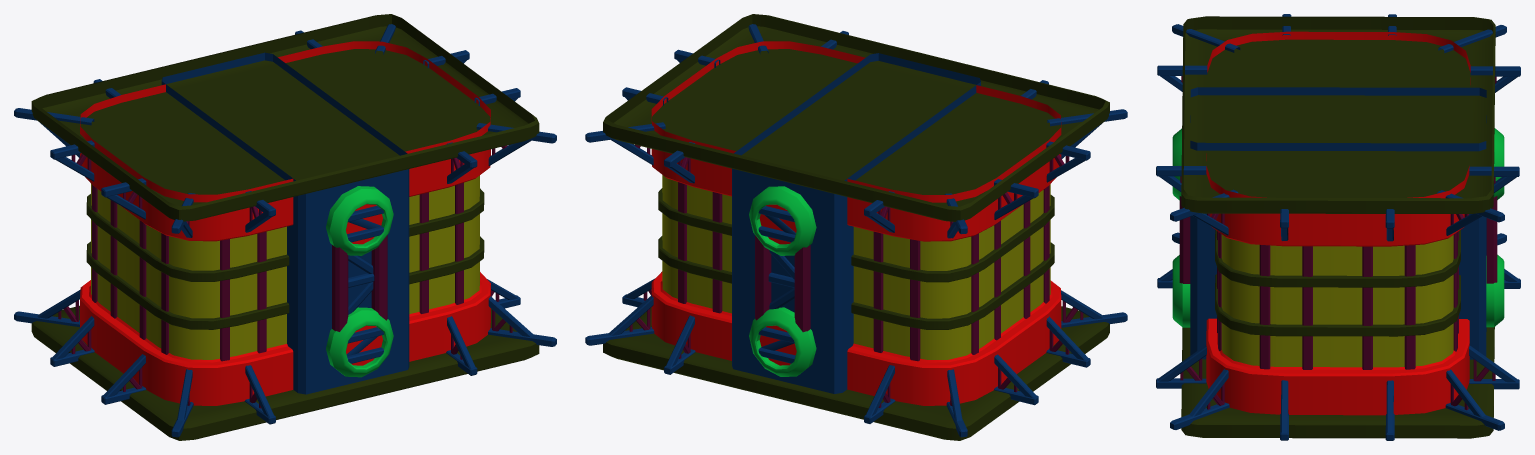
The model's file is OBJ_Bloc_Vitre.fbx.
The picture shows the model from 3 angles, left to right: view 1: azimuth 30°, elevation 25°; view 2: azimuth 150°, elevation 25°; view 3: azimuth 270°, elevation 25°; orthographic projection. The views are drawn at different scales.
Visible parts, largest first — view 1: Object002; view 2: Object002; view 3: Object002.
Boxes of the visible parts, bbox=[...] form: Object002: bbox=[14, 14, 556, 440]; Object002: bbox=[585, 14, 1127, 440]; Object002: bbox=[1156, 14, 1520, 440].
Size of the model in its own units: 40.25 by 21.7 by 29.86.
